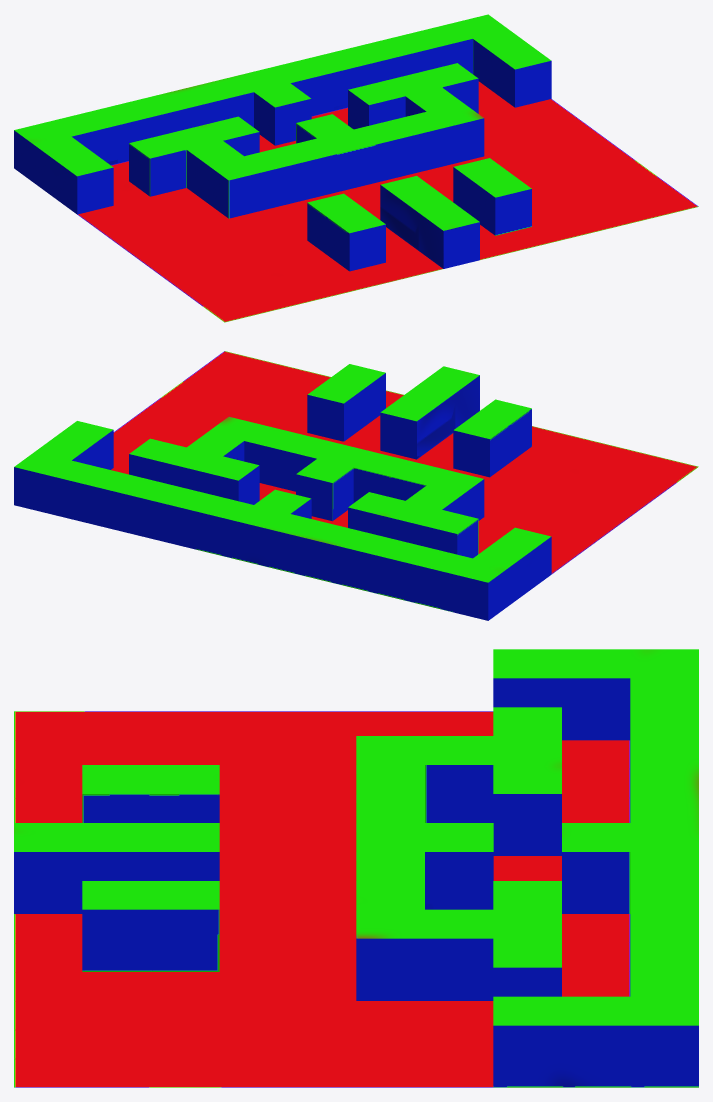
The model's file is DemoMap.fbx.
3 views of the same model, one above another, from view 1: azimuth 30°, elevation 25°; view 2: azimuth 150°, elevation 25°; view 3: azimuth 270°, elevation 25° (orthographic). The views are drawn at different scales.
Visible parts, largest first — view 1: Grid; view 2: Grid; view 3: Grid.
Part boxes in pixels (x1,y1,x2,y2): Grid: (14, 14, 698, 322); Grid: (14, 351, 698, 620); Grid: (14, 649, 698, 1087).
Size of the model in its own units: 26 by 2 by 20.
1 material, 1 textured.
